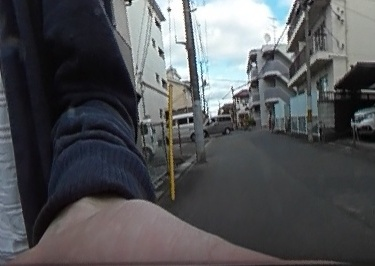person: (267, 108, 276, 133)
